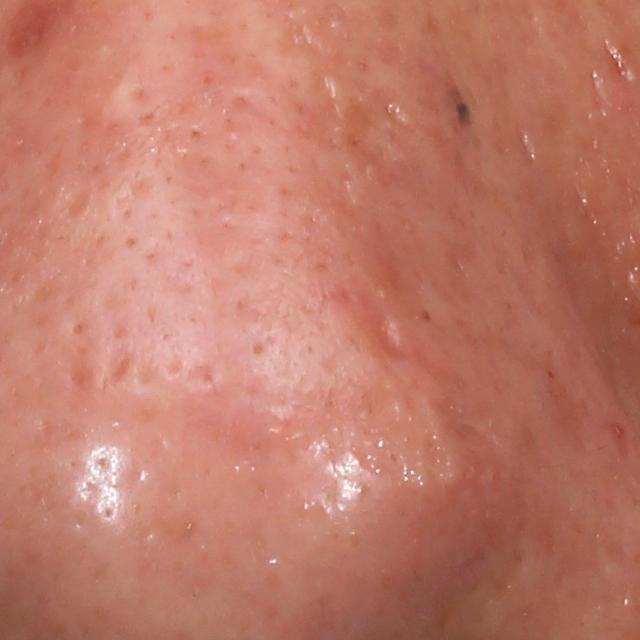atrophic_scar: (344, 96, 401, 179), (436, 393, 495, 453), (598, 34, 634, 90), (104, 343, 142, 392), (368, 309, 401, 360), (57, 186, 89, 222)
comedo: (245, 337, 265, 357)
nevus: (449, 83, 473, 124)
